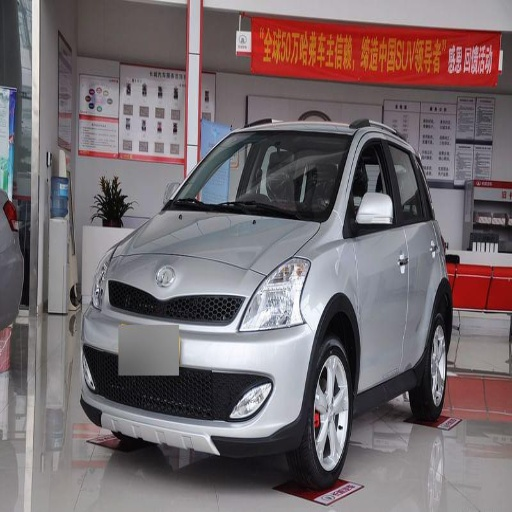front_bumper: (82, 256, 317, 453)
front_glass: (165, 132, 351, 221)
front_left_door: (348, 132, 410, 386)
